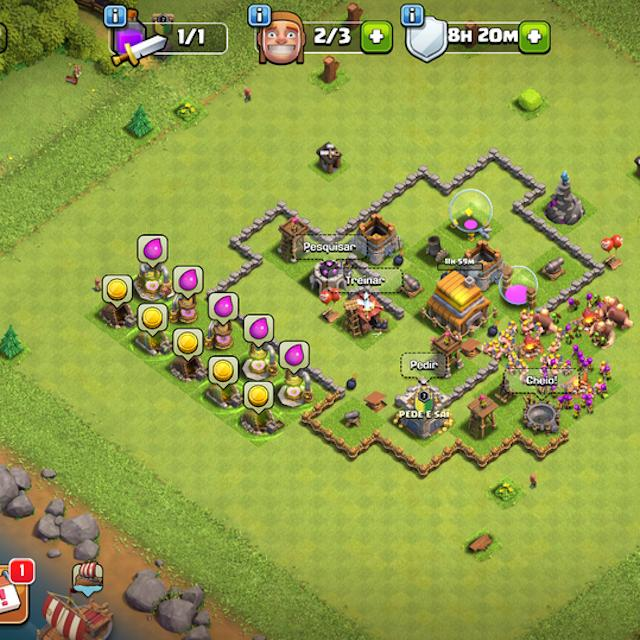Elixir: (279, 340, 310, 374), (244, 314, 274, 349), (138, 234, 168, 268), (174, 266, 203, 299), (210, 293, 239, 323)
coin: (209, 355, 239, 389), (103, 274, 132, 308), (139, 303, 168, 337), (246, 380, 274, 414), (174, 328, 203, 360)
